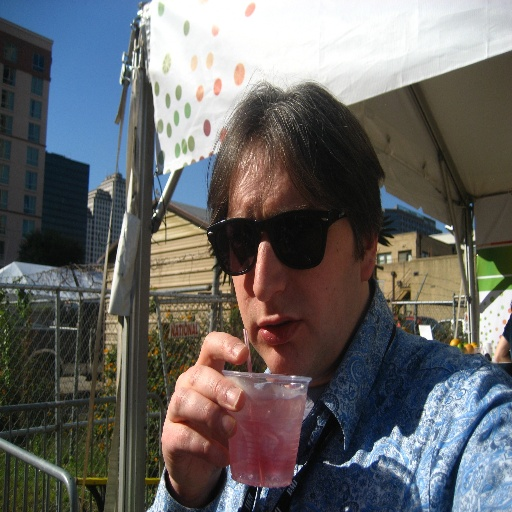hand: (163, 337, 242, 512)
